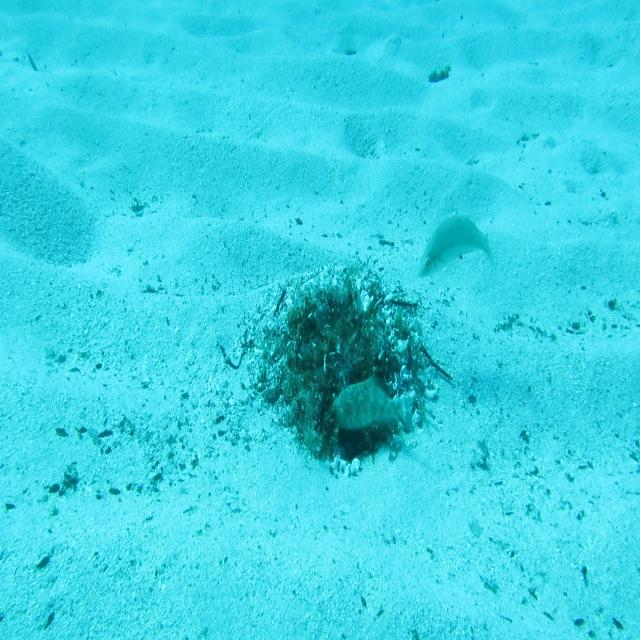NIP_IN: (329, 372, 416, 441)
core_nest: (309, 310, 364, 364)
nest: (231, 246, 448, 482)
vegetation: (427, 64, 452, 84)
